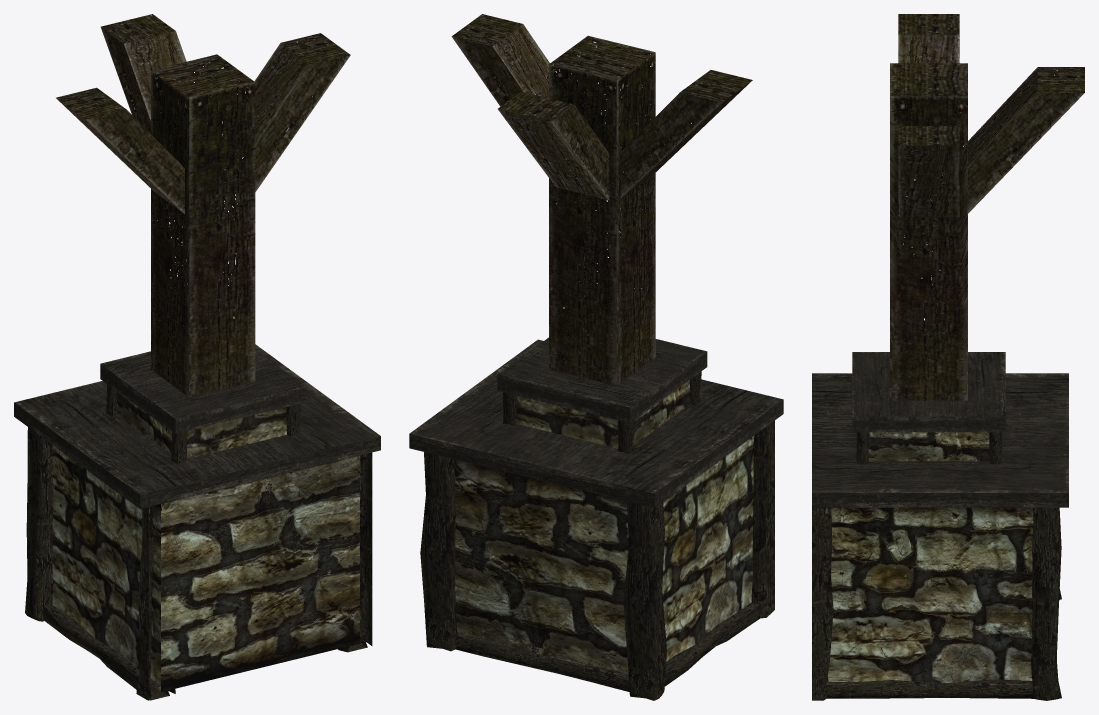
The model's file is dividing_wall_pillar.dae.
The picture shows the model from 3 angles, left to right: view 1: azimuth 30°, elevation 25°; view 2: azimuth 150°, elevation 25°; view 3: azimuth 270°, elevation 25°; orthographic projection. The views are drawn at different scales.
Visible parts, largest first — view 1: polySurface29, polySurface40, polySurface43, polySurface41, polySurface37; view 2: polySurface40, polySurface29, polySurface43, polySurface41, polySurface37; view 3: polySurface40, polySurface29, polySurface43, polySurface41, polySurface37.
Boxes of the visible parts, <box> form: polySurface29: <box>52,445,359,691</box>; polySurface40: <box>56,14,350,397</box>; polySurface43: <box>14,344,380,508</box>; polySurface41: <box>25,384,372,700</box>; polySurface37: <box>117,391,286,458</box>; polySurface40: <box>451,14,752,385</box>; polySurface29: <box>454,436,754,673</box>; polySurface43: <box>409,337,783,508</box>; polySurface41: <box>420,371,774,700</box>; polySurface37: <box>516,380,690,448</box>; polySurface40: <box>890,14,1084,400</box>; polySurface29: <box>828,507,1033,682</box>; polySurface43: <box>812,352,1068,507</box>; polySurface41: <box>812,432,1061,700</box>; polySurface37: <box>868,432,989,461</box>.
Size of the model in its own units: 2 by 4 by 1.75.
